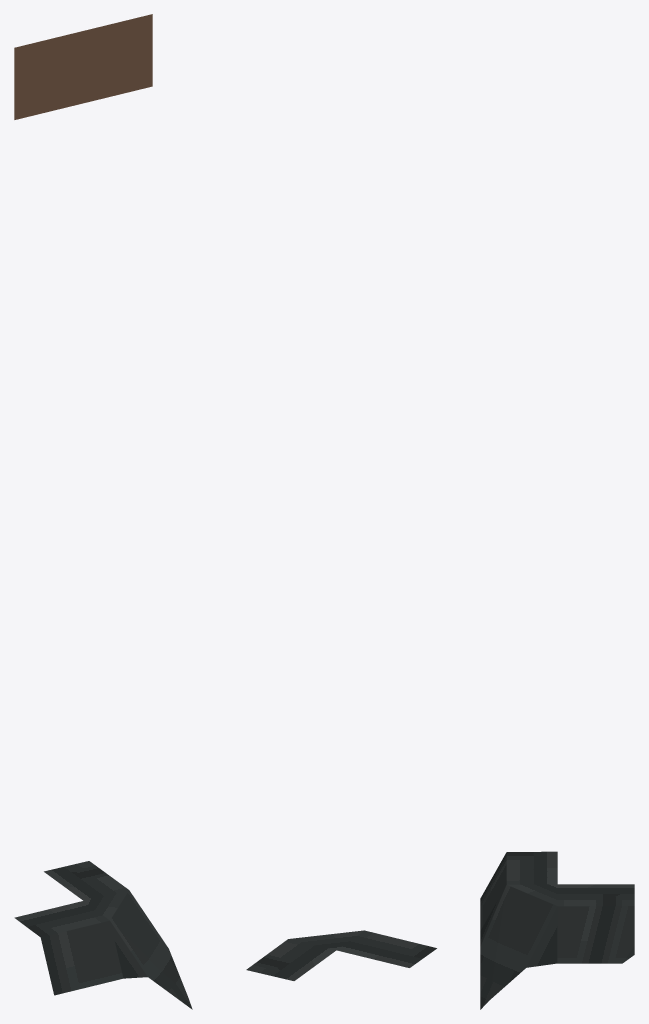
The picture shows the model from 3 angles, left to right: view 1: azimuth 30°, elevation 25°; view 2: azimuth 150°, elevation 25°; view 3: azimuth 270°, elevation 25°; orthographic projection. The views are drawn at different scales.
Bounding box in the file's own units: 1 × 6.67 × 1.
Materials: 3 (3 with a texture image).
